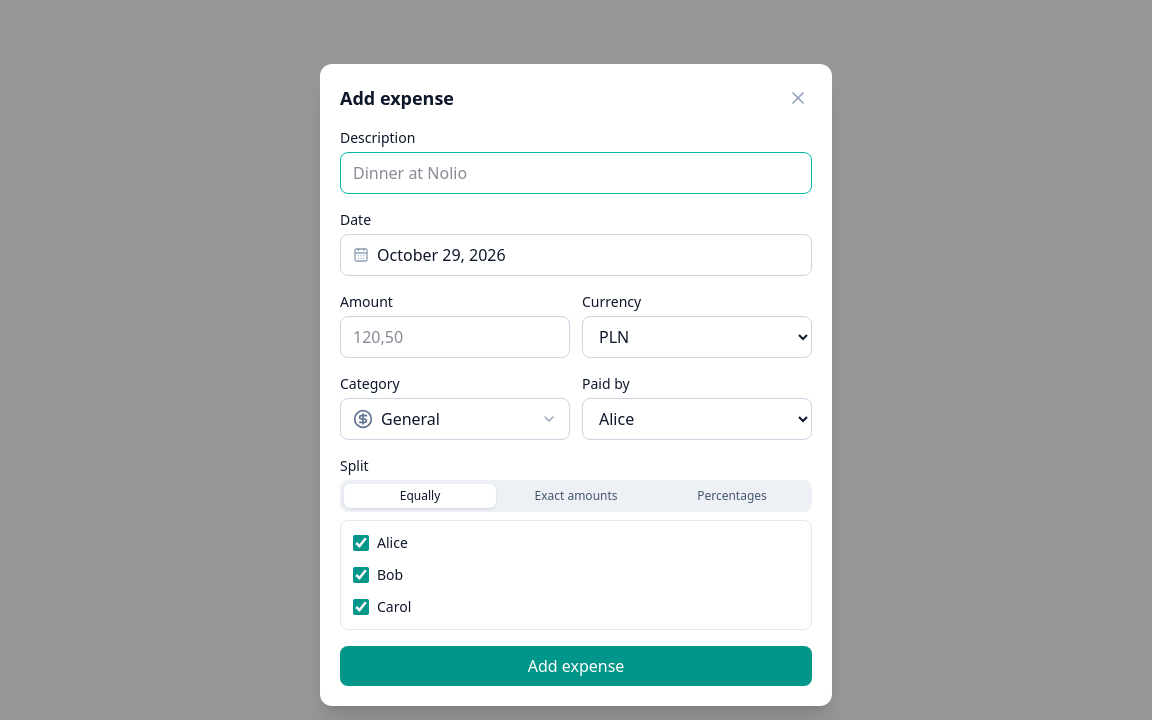
Scenario: ExpenseFormModal — category guessed from the description › follows the description while the category is untouched
This screenshot has width=1152, height=720.
Type "Parking" into the field with placeholder "Dinner at Nolio".
click(576, 173); type("Parking")  # box [340,152,812,194]
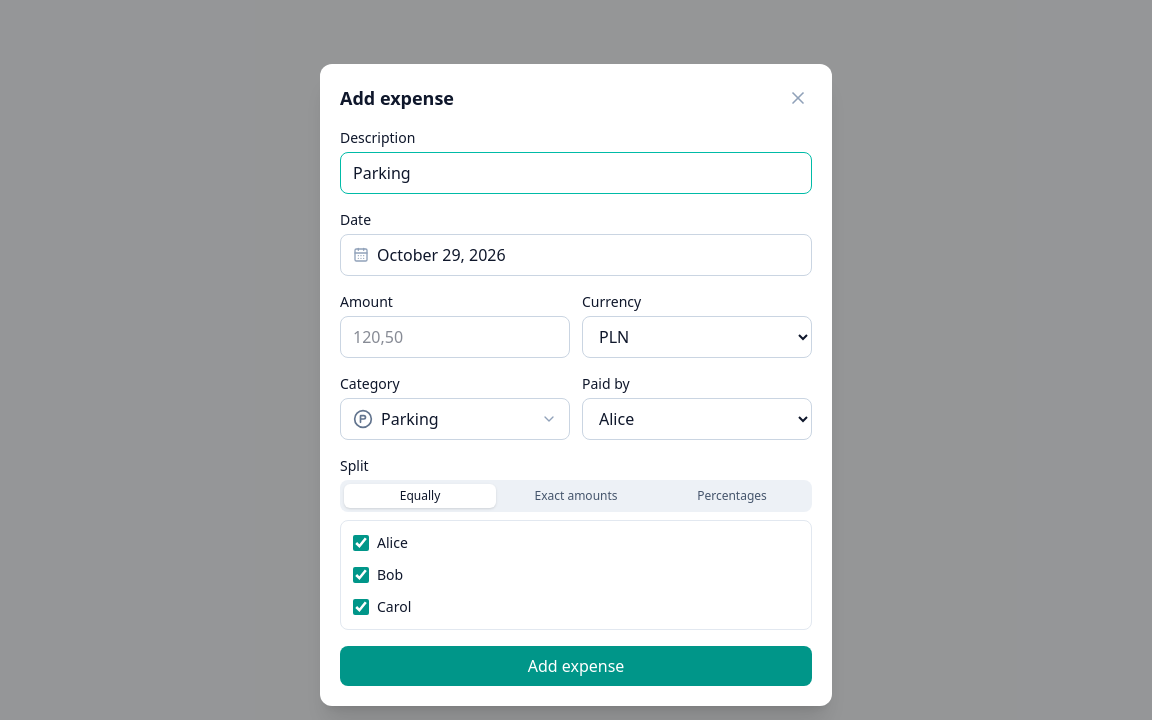
Expected: the text "Parking" is shown, [381,408,439,430]
Note: Refining the description re-guesses rather than sticking on the first hit.
Replace the text in the field with placeholder "Dinner at Nolio" with "Pizza" at x=576, y=173, box [340,152,812,194]
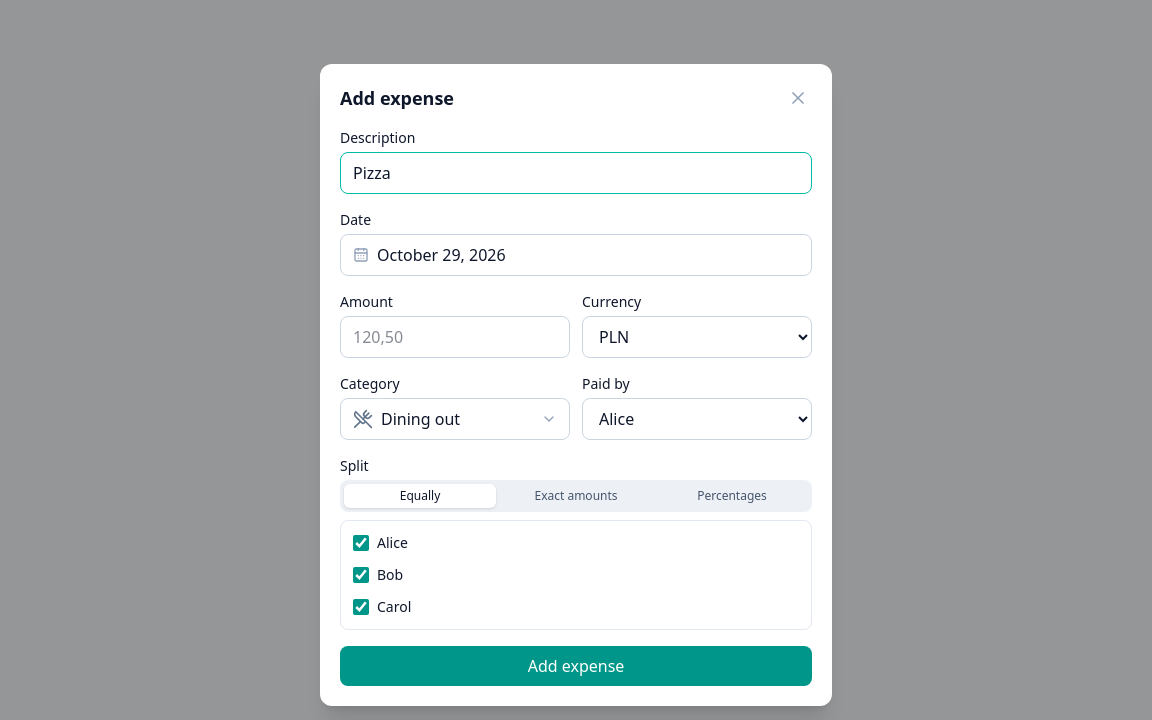
Expected: the text "Dining out" is shown, [381,408,460,430]
Clear the field with placeholder "Dinner at Nolio" at x=576, y=173, box [340,152,812,194]
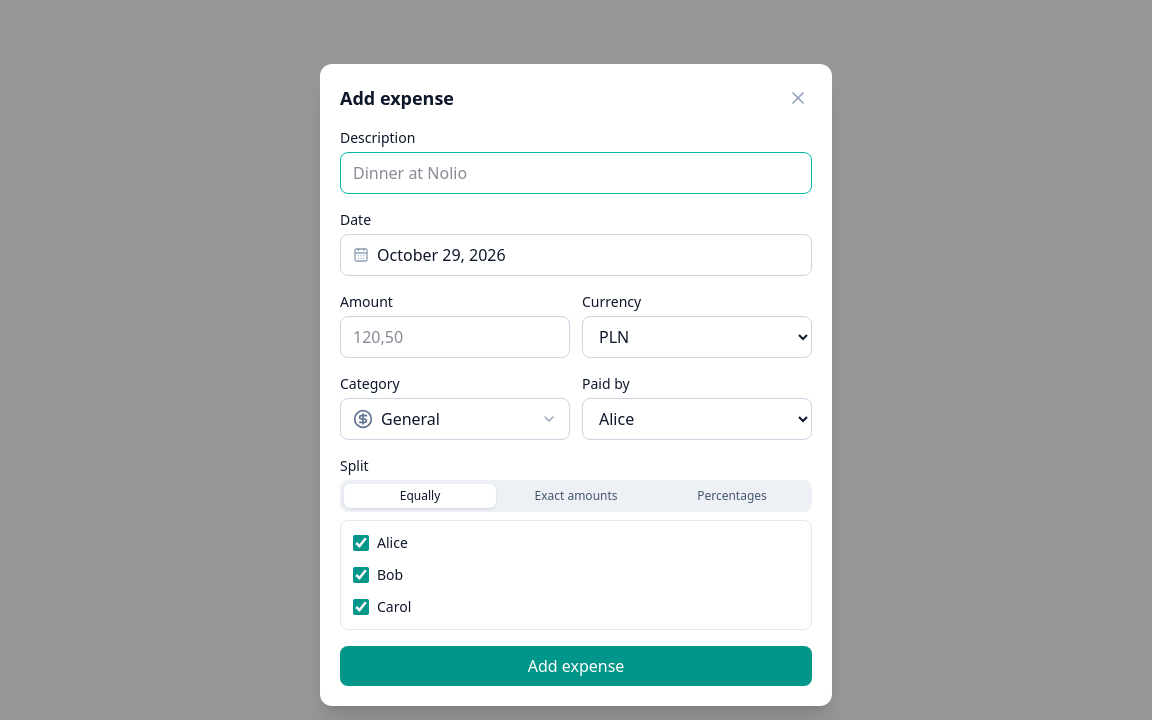
Expected: the text "General" is shown, [381,408,440,430]
